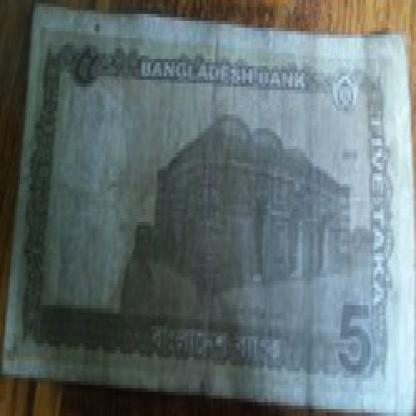Five Taka: (53, 31, 112, 111), (336, 302, 380, 374)
